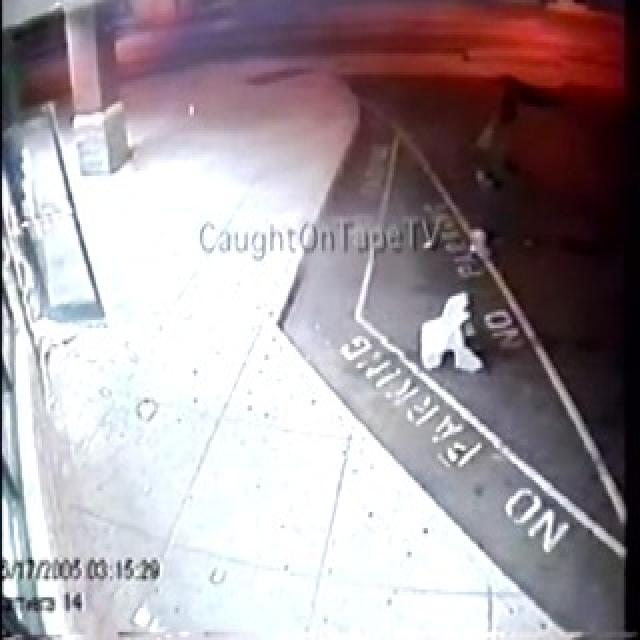thief: (457, 94, 520, 253)
